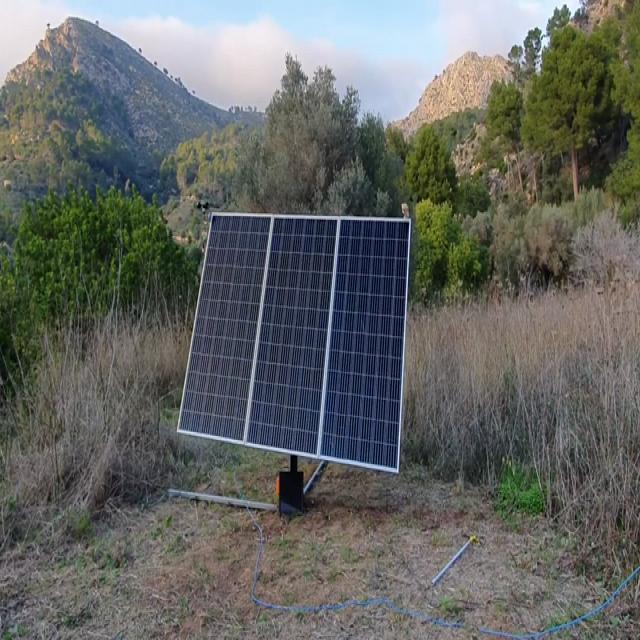Normal Solar Panel: (178, 215, 411, 473)
